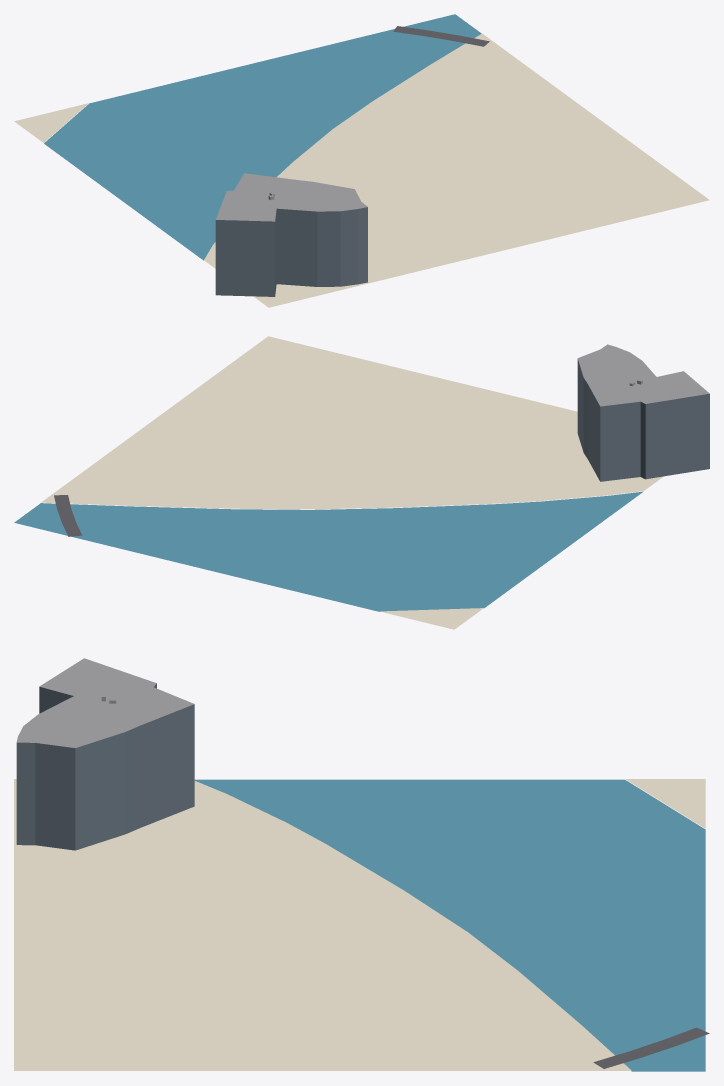
The model's file is tile_5_3_far.glb.
The picture shows the model from 3 angles, top to bottom: view 1: azimuth 30°, elevation 25°; view 2: azimuth 150°, elevation 25°; view 3: azimuth 270°, elevation 25°; orthographic projection. The views are drawn at different scales.
Visible parts, largest first — view 1: nature_ground, nature_water, buildings_glass_dark, buildings_roof, roads_asphalt; view 2: nature_ground, nature_water, buildings_glass_dark, buildings_roof, roads_asphalt; view 3: nature_ground, nature_water, buildings_glass_dark, buildings_roof, roads_asphalt.
Part boxes in pixels (left/top/right/bottom): nature_ground: left=14, top=33, right=709, bottom=307; nature_water: left=44, top=14, right=481, bottom=260; buildings_glass_dark: left=215, top=207, right=367, bottom=296; buildings_roof: left=215, top=173, right=367, bottom=221; roads_asphalt: left=393, top=26, right=489, bottom=46; nature_ground: left=41, top=336, right=663, bottom=629; nature_water: left=14, top=491, right=643, bottom=611; buildings_glass_dark: left=577, top=359, right=709, bottom=481; buildings_roof: left=577, top=344, right=709, bottom=406; roads_asphalt: left=54, top=495, right=82, bottom=536; nature_ground: left=14, top=779, right=705, bottom=1070; nature_water: left=194, top=779, right=705, bottom=1071; buildings_glass_dark: left=16, top=683, right=194, bottom=850; buildings_roof: left=16, top=658, right=193, bottom=747; roads_asphalt: left=593, top=1027, right=709, bottom=1068.
Size of the model in its own units: 265 by 42.93 by 252.
